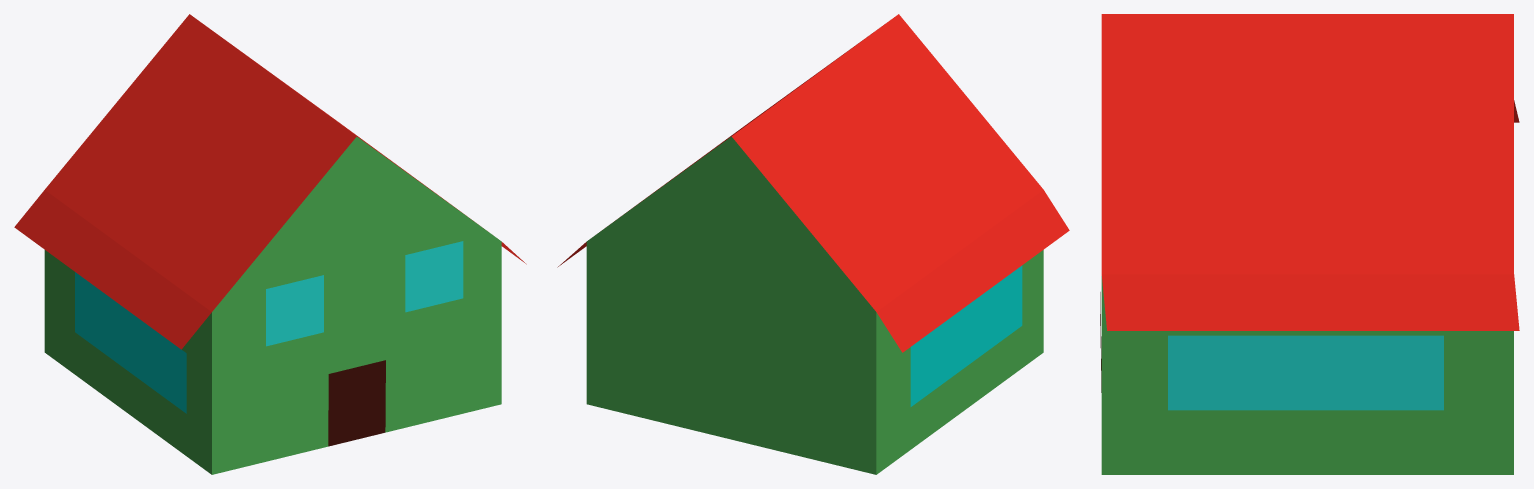
File: realhuthouse2.fbx
3 renders of one model, left to right at view 1: azimuth 30°, elevation 25°; view 2: azimuth 150°, elevation 25°; view 3: azimuth 270°, elevation 25°, orthographic. The views are drawn at different scales.
Parts seen in each view (by area): view 1: Cube.001; view 2: Cube.001; view 3: Cube.001.
Boxes of the visible parts, x1=… form: Cube.001: x1=14, y1=14, x2=526, y2=474; Cube.001: x1=557, y1=14, x2=1069, y2=474; Cube.001: x1=1100, y1=14, x2=1519, y2=474.
Bounding box in the file's own units: 1195 × 1000 × 1021.
